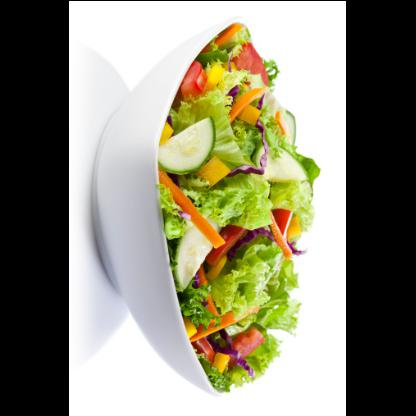salad: (162, 23, 323, 392)
